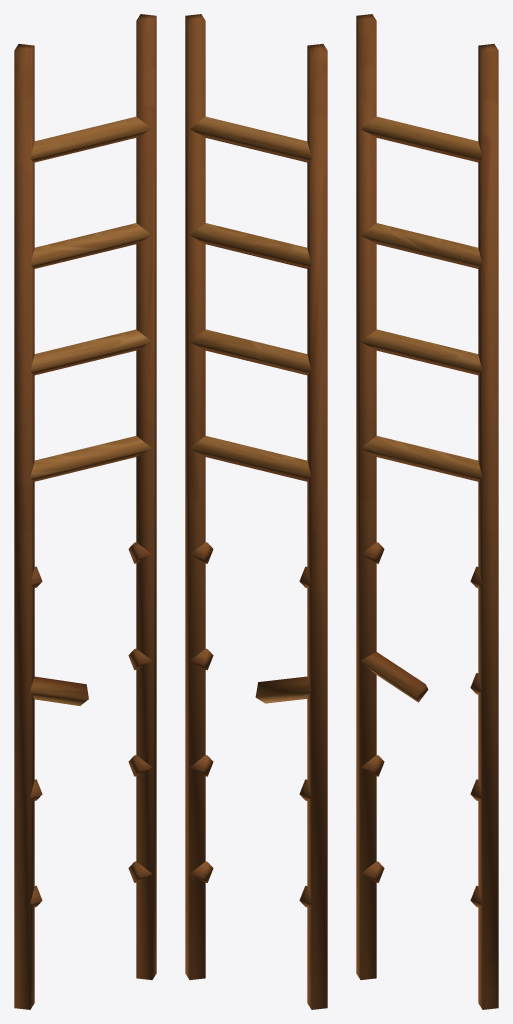
Rendered from Ladder.001.fbx.
3 renders of one model, left to right at view 1: azimuth 30°, elevation 25°; view 2: azimuth 150°, elevation 25°; view 3: azimuth 330°, elevation 25°, orthographic.
Visible parts, largest first — view 1: Ladder.001; view 2: Ladder.001; view 3: Ladder.001.
Boxes of the visible parts, x1,y1,x2,y2 form: Ladder.001: [14, 14, 156, 1009]; Ladder.001: [185, 14, 327, 1009]; Ladder.001: [356, 14, 498, 1009].
Size of the model in its own units: 70 by 450 by 11.37.
